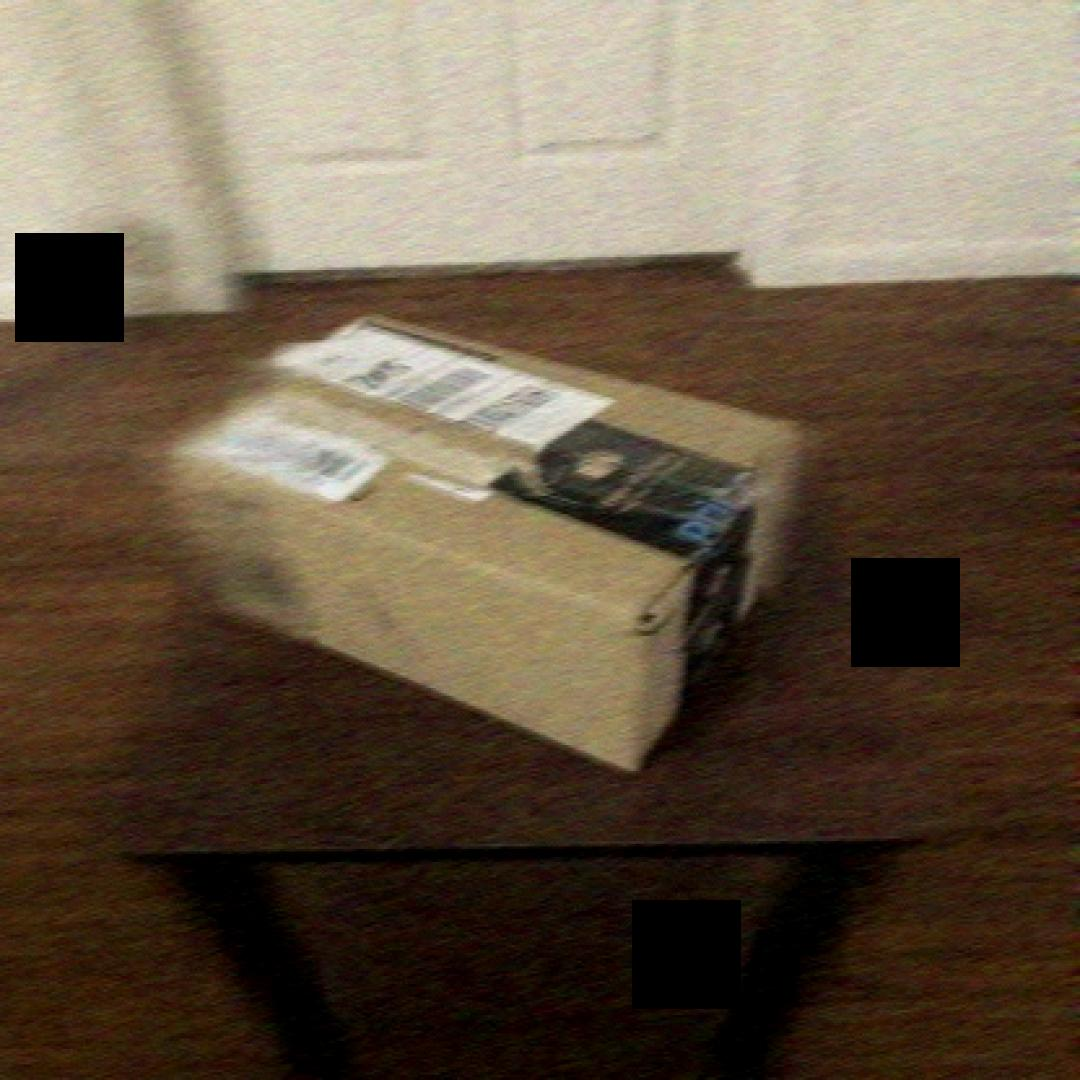package: (153, 311, 818, 786)
